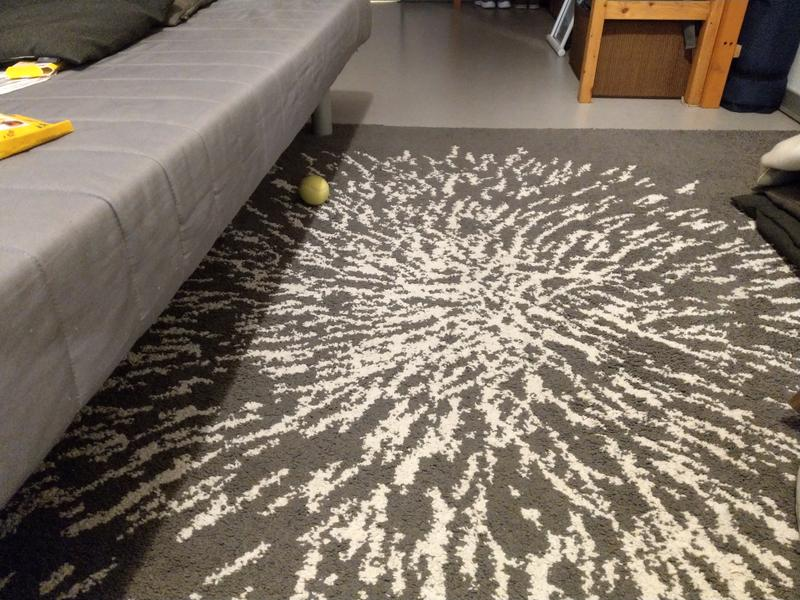Tennisball: (298, 173, 332, 209)
